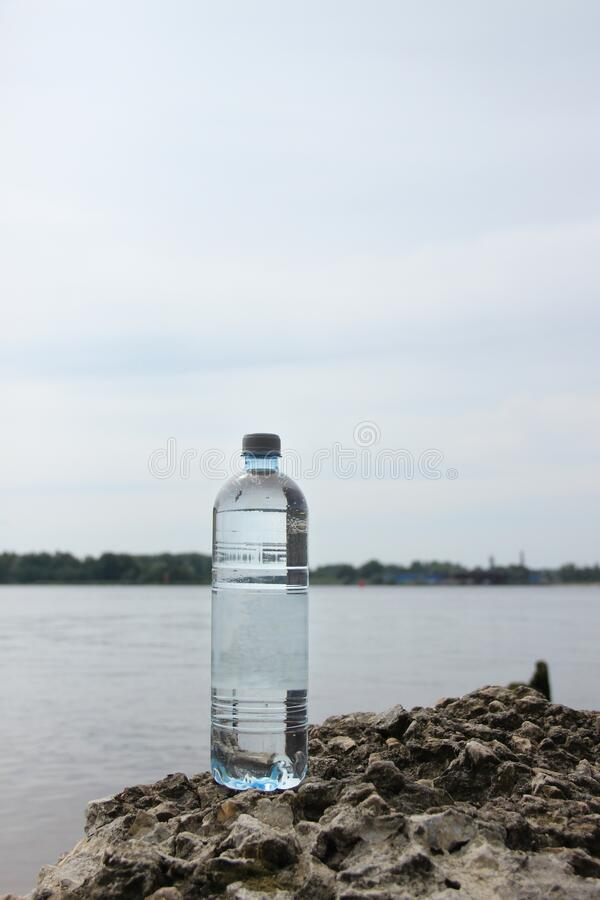bottle: (194, 414, 324, 803)
